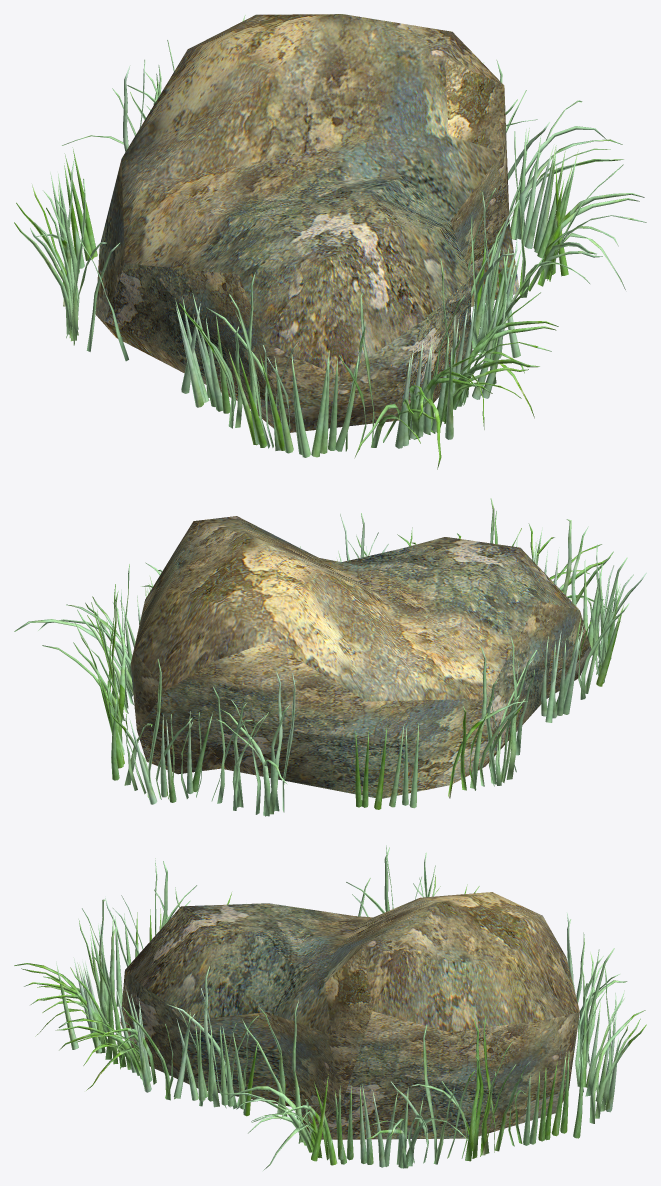
Rendered from Rock.FBX.
The picture shows the model from 3 angles, top to bottom: view 1: azimuth 30°, elevation 25°; view 2: azimuth 150°, elevation 25°; view 3: azimuth 270°, elevation 25°; orthographic projection. The views are drawn at different scales.
Visible parts, largest first — view 1: Rock, Grass; view 2: Rock, Grass; view 3: Rock, Grass.
Boxes of the visible parts, x1,y1,x2,y2 form: Rock: (95,14,519,432); Grass: (14,15,646,469); Rock: (130,516,591,798); Grass: (14,498,646,816); Rock: (120,892,579,1139); Grass: (14,845,646,1170).
Size of the model in its own units: 27.54 by 11.28 by 31.21.
2 materials, 2 textured.
